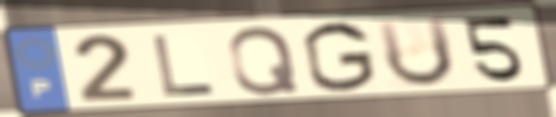2: (75, 32, 145, 106)
5: (459, 16, 527, 84)
G: (299, 20, 379, 94)
L: (149, 32, 220, 97)
Q: (225, 24, 303, 97)
U: (372, 15, 458, 90)
